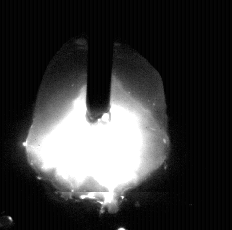arame: (87, 0, 111, 124)
poca: (26, 0, 172, 230)
